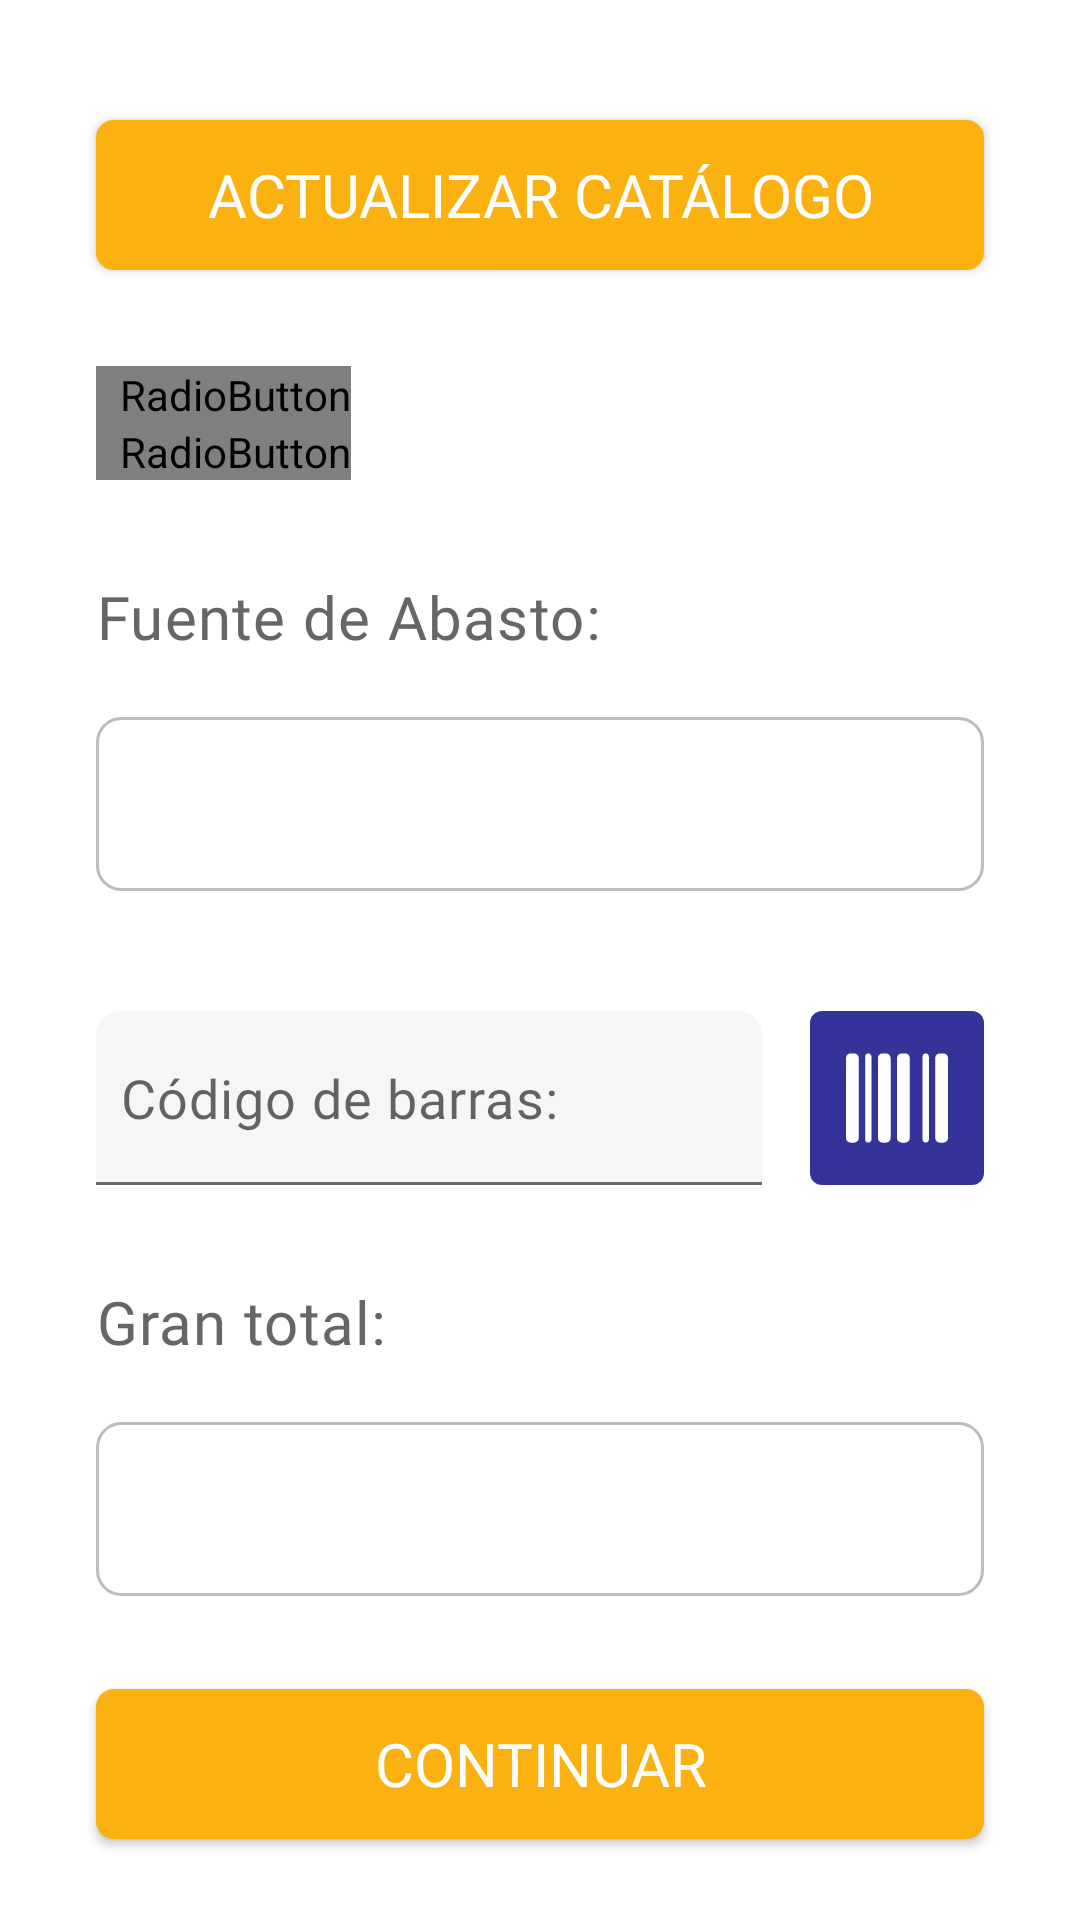

Named icons in this screenshot (1080px x 1920px) and their centers, point (x, y):
barcode: point (897, 1098)
